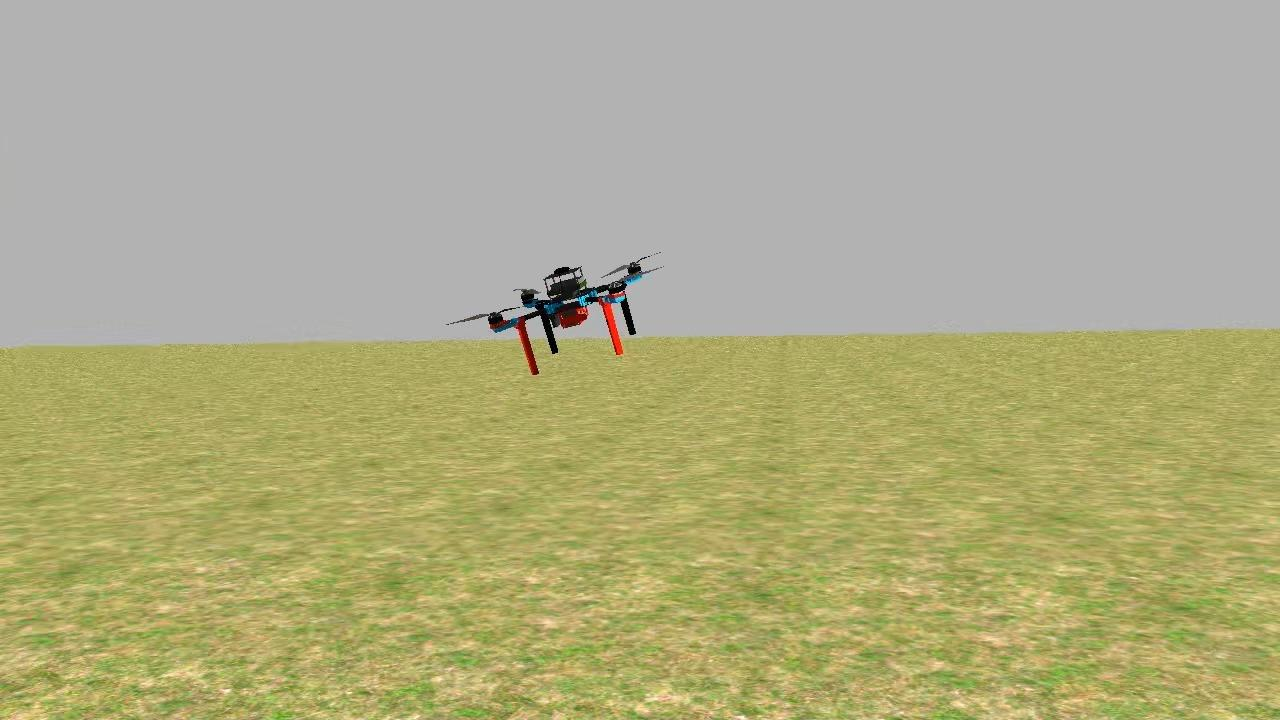UAV: (481, 249, 651, 382)
